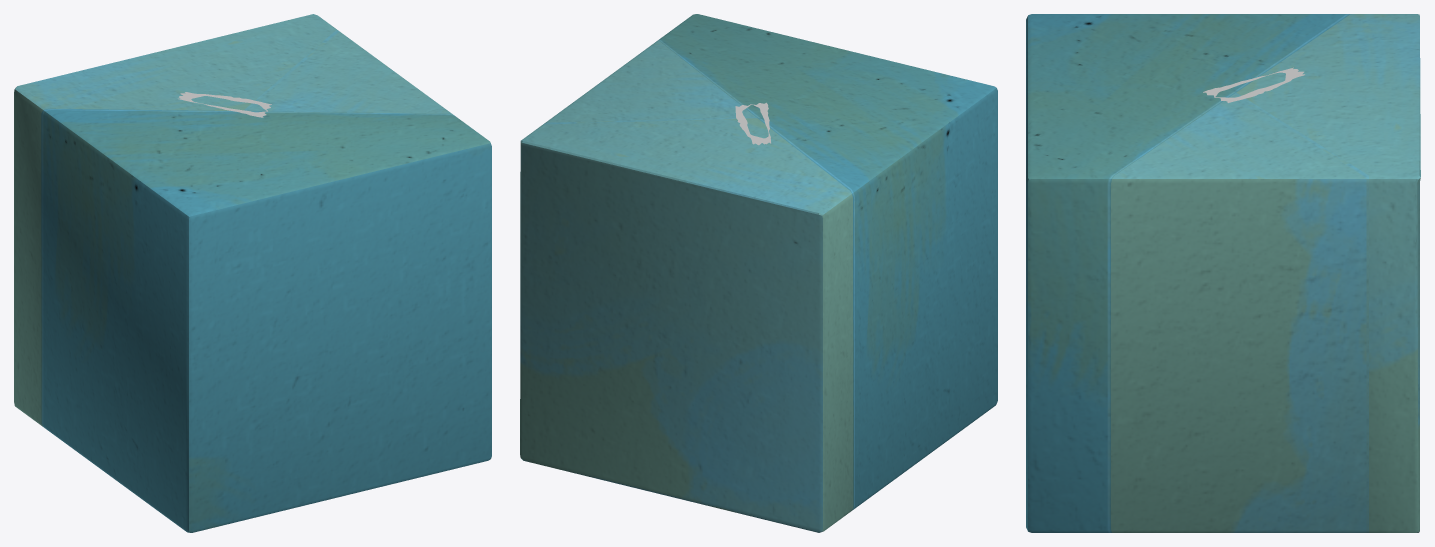
File: TOMB_GROUND_1_003.obj
3 renders of one model, left to right at view 1: azimuth 30°, elevation 25°; view 2: azimuth 150°, elevation 25°; view 3: azimuth 270°, elevation 25°, orthographic. The views are drawn at different scales.
Parts seen in each view (by area): view 1: TOMB_GROUND_1_003; view 2: TOMB_GROUND_1_003; view 3: TOMB_GROUND_1_003.
Part boxes in pixels (x1,y1,x2,y2): TOMB_GROUND_1_003: (14,14,491,532); TOMB_GROUND_1_003: (520,14,997,532); TOMB_GROUND_1_003: (1026,14,1420,532).
Size of the model in its own units: 1 by 1.01 by 1.
